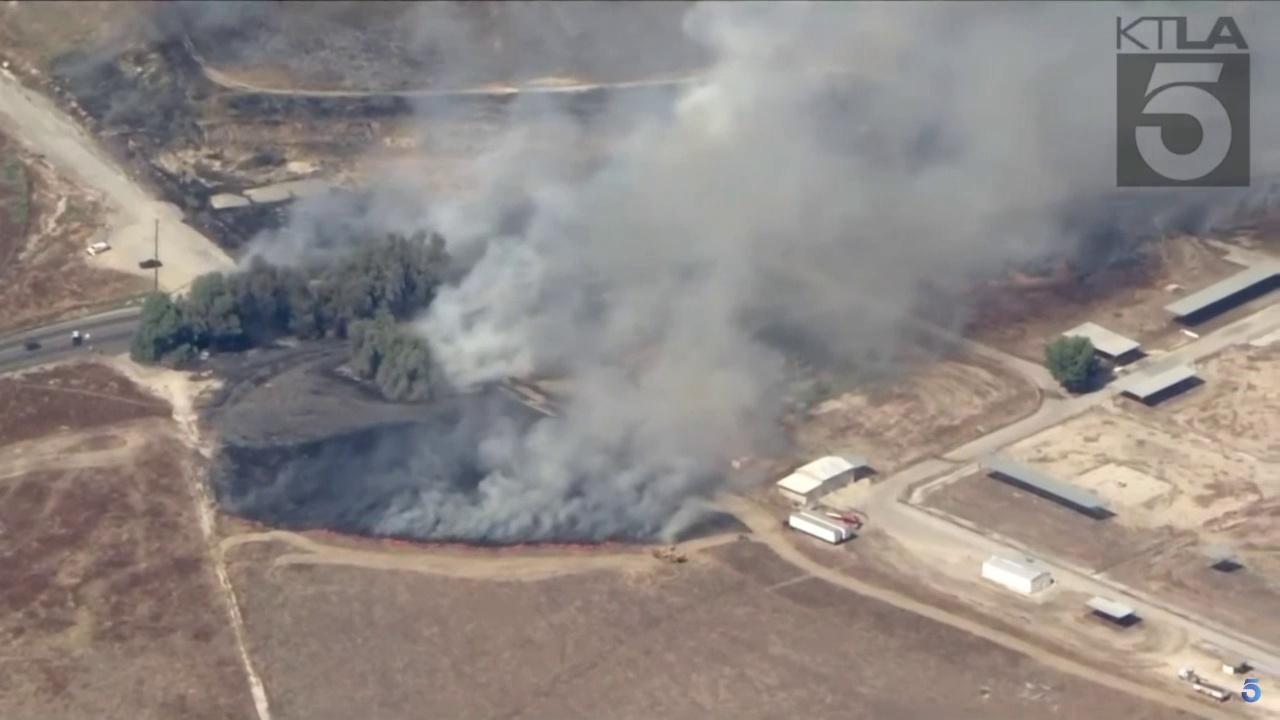fire: (381, 538, 619, 550), (302, 527, 338, 538)
smoke: (224, 0, 1280, 541), (48, 0, 271, 144)
